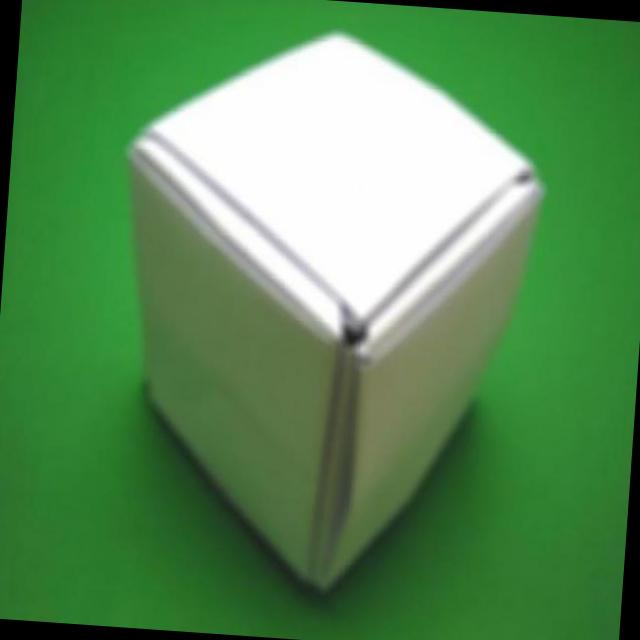box: (98, 20, 560, 608)
